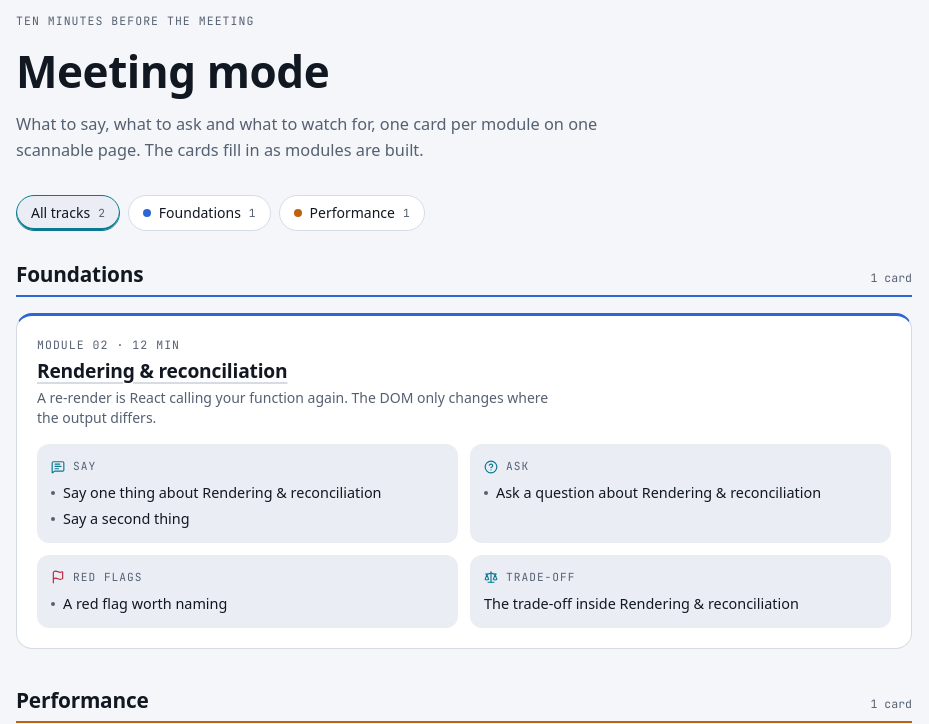
Test: MeetingPage with built modules › offers a chip only for tracks that have cards and filters by track
Later steps or results of the test are not shown.
Click the button "Performance 1": [352, 213] box [279, 195, 425, 231]
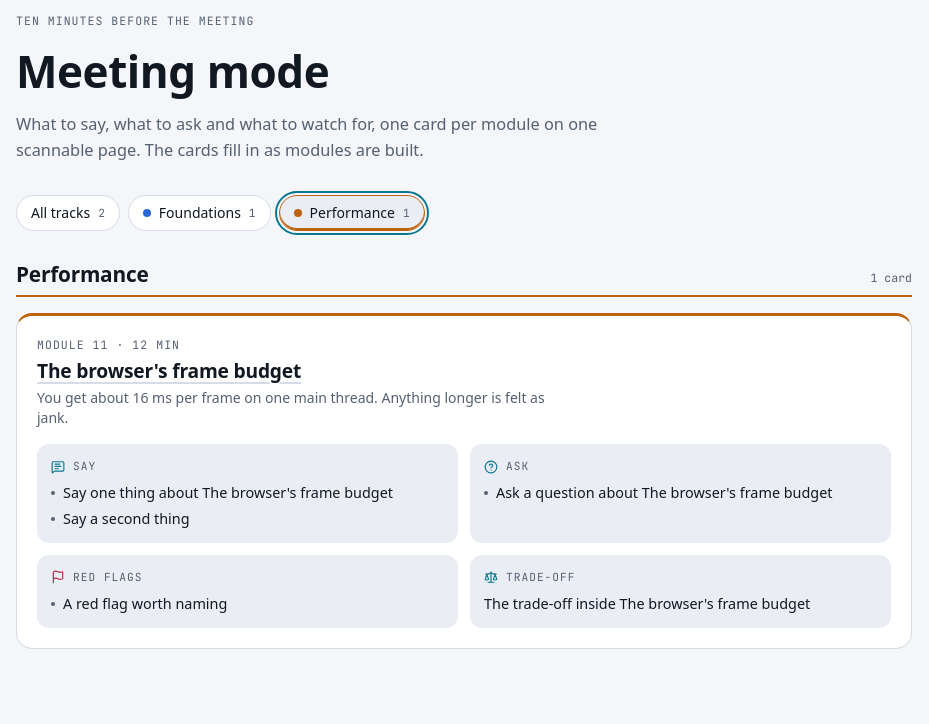
expect the element "frame budget" is shown: met, box [16, 313, 912, 649]
expect the button "Performance 1" is pressed: met, box [279, 195, 425, 231]
